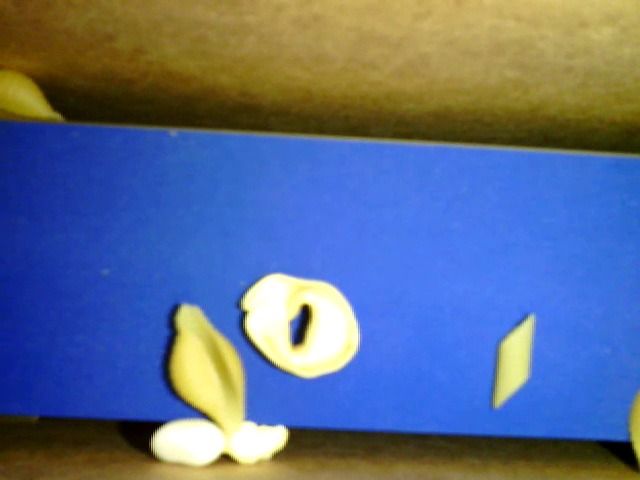penne: (492, 312, 538, 409)
shell: (155, 299, 245, 434), (1, 66, 67, 125)
tortellini: (235, 269, 363, 379)
